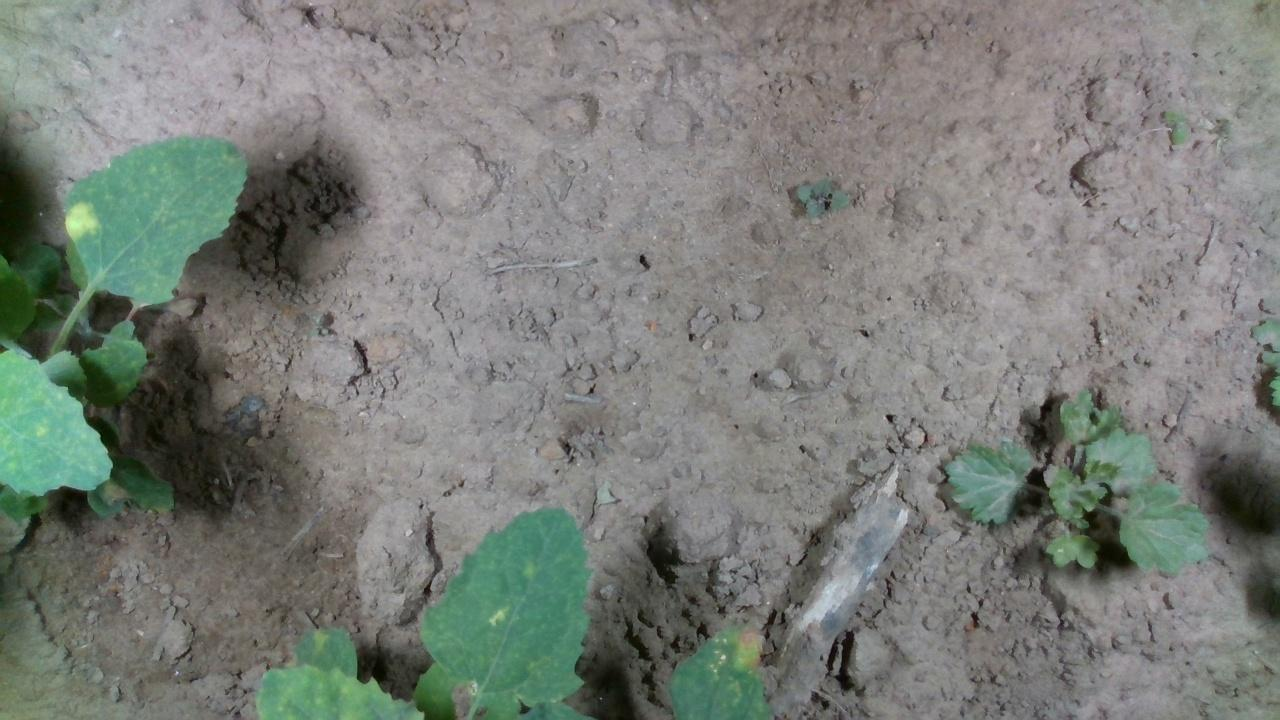weed: (792, 171, 844, 221), (1159, 106, 1193, 150)
